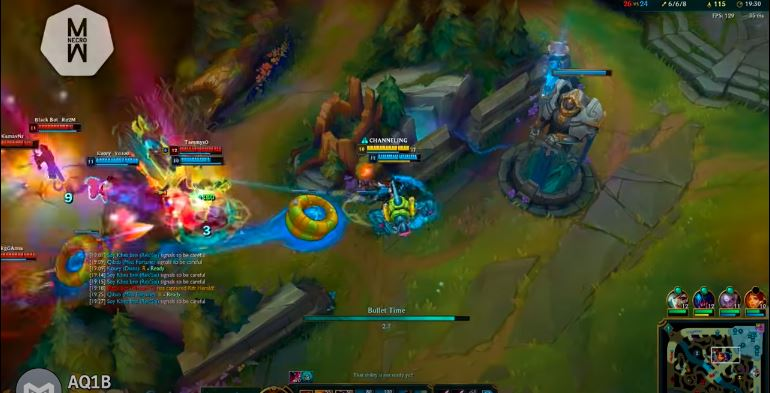bar: (84, 153, 142, 169), (171, 153, 225, 168), (359, 139, 412, 154), (368, 150, 422, 164), (29, 121, 82, 134), (168, 143, 225, 153), (1, 136, 42, 149), (1, 250, 39, 263)
